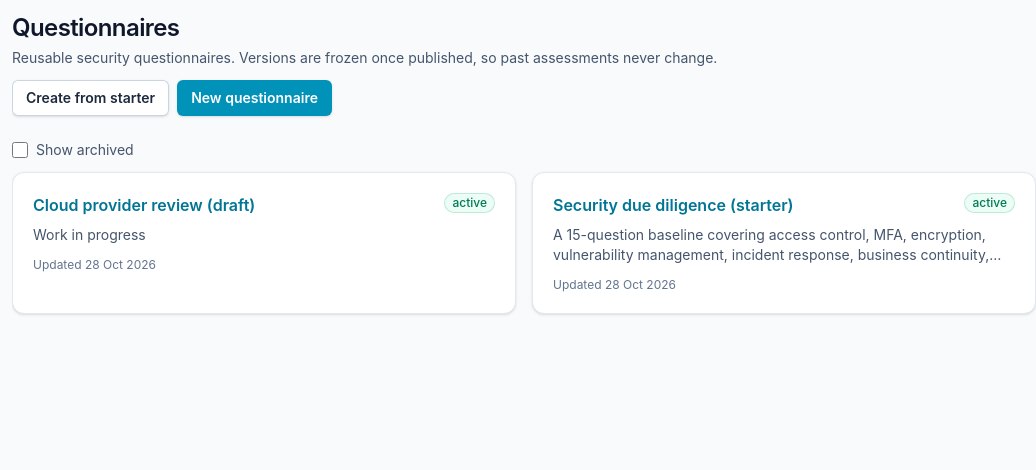
Test: Questionnaire list › lists templates and hides archived ones until asked
Check: the link "Security due diligence (starter)" is shown, box [553,193,794,217]
Check: the link "Old review" is not shown
Click the checkbox labelled "Show archived" at (20, 150), box [12,142,28,158]
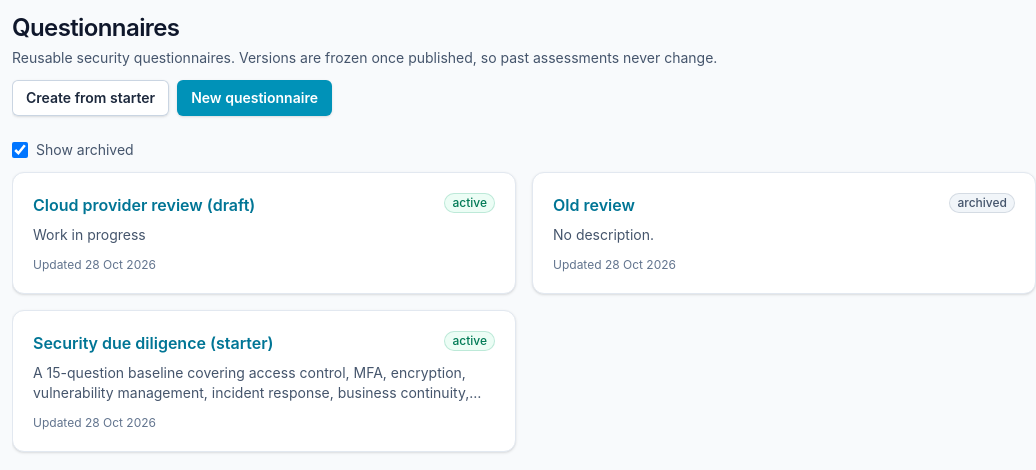
Check: the link "Old review" is shown, box [553,193,635,217]
